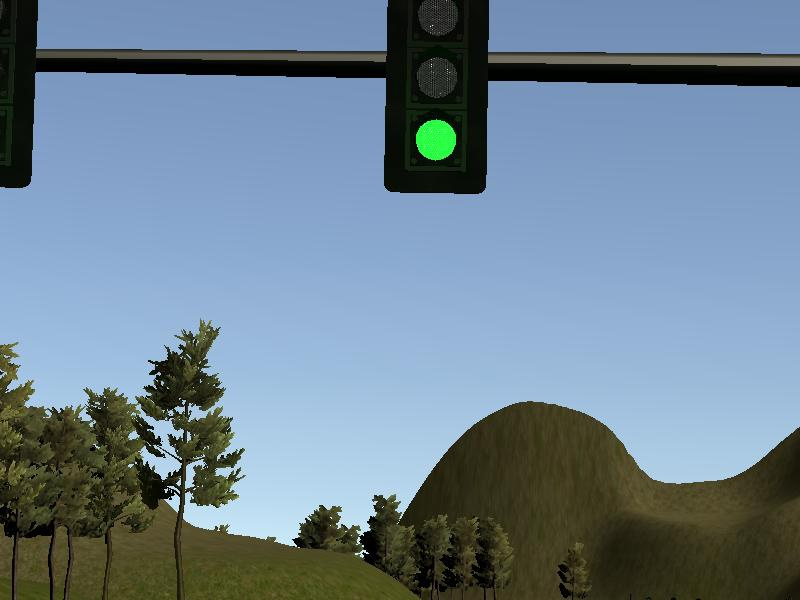green_light: (389, 1, 491, 193)
